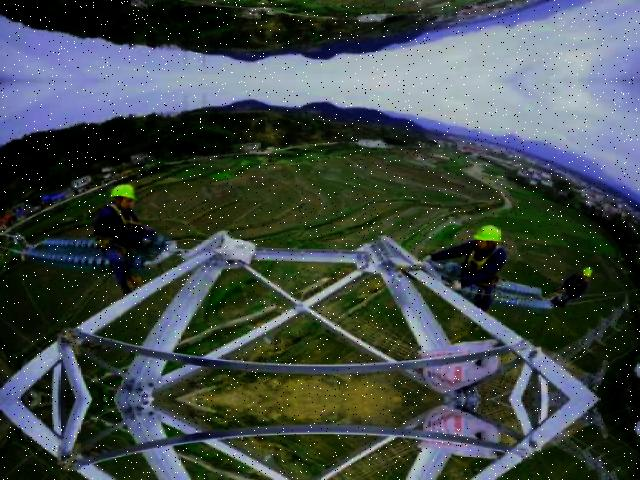Helmet: (469, 222, 503, 248), (105, 181, 139, 205), (576, 262, 596, 280)
